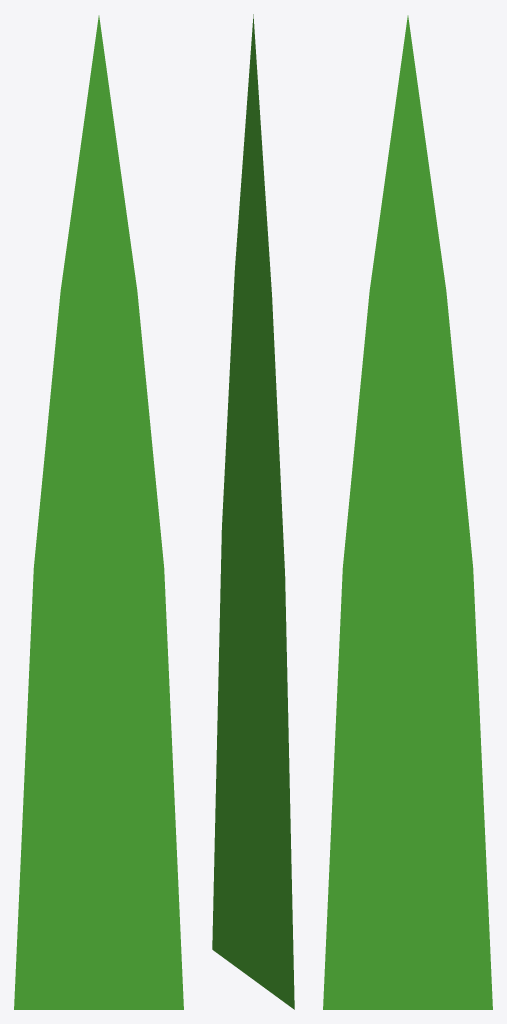
Rendered from Grass.glb.
3 views of the same model, side by side, from view 1: azimuth 90°, elevation 25°; view 2: azimuth 210°, elevation 25°; view 3: azimuth 270°, elevation 25° (orthographic). The views are drawn at different scales.
Parts seen in each view (by area): view 1: Plane; view 2: Plane; view 3: Plane.
Part boxes in pixels (left/top/right/bottom): Plane: left=14, top=15, right=183, bottom=1009; Plane: left=212, top=14, right=294, bottom=1009; Plane: left=323, top=15, right=492, bottom=1009.
Size of the model in its own units: 1.51e-07 by 1.73 by 0.2671.
